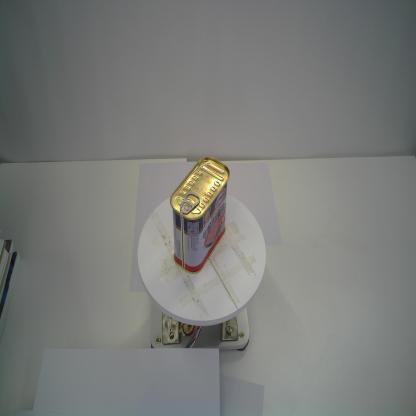Canned Food: (168, 154, 230, 276)
